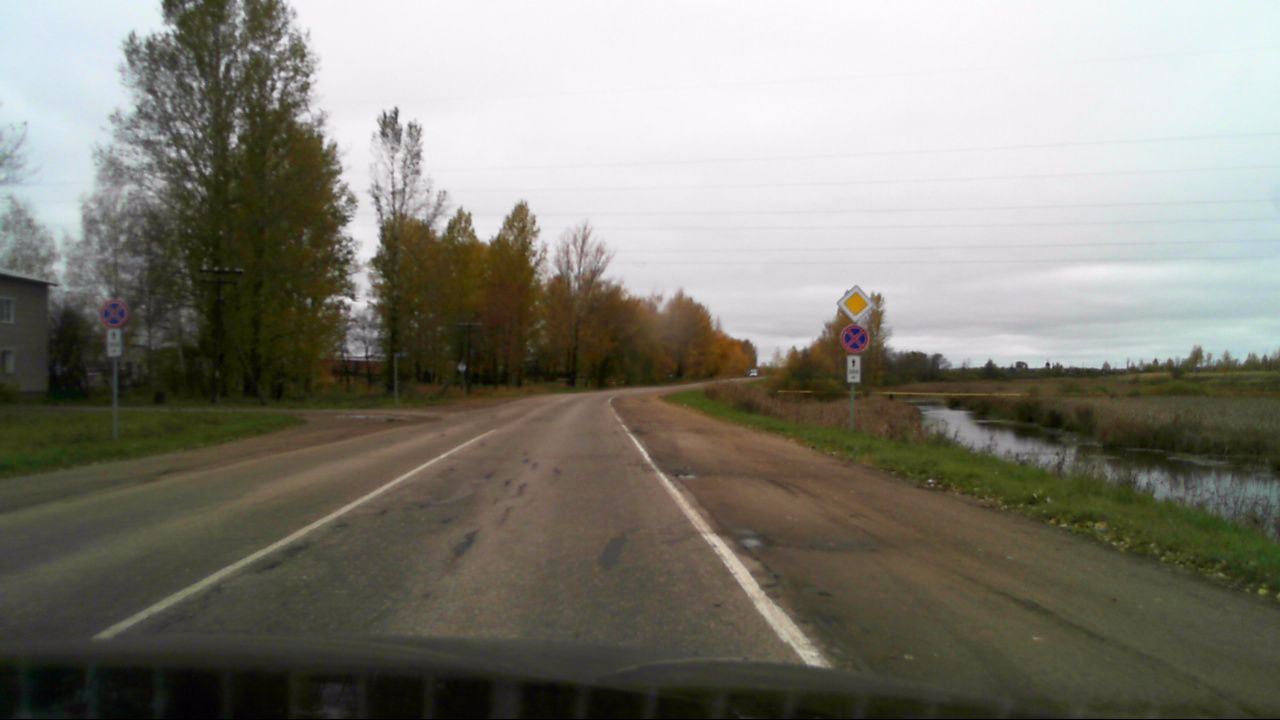No Parking: (840, 324, 868, 353)
